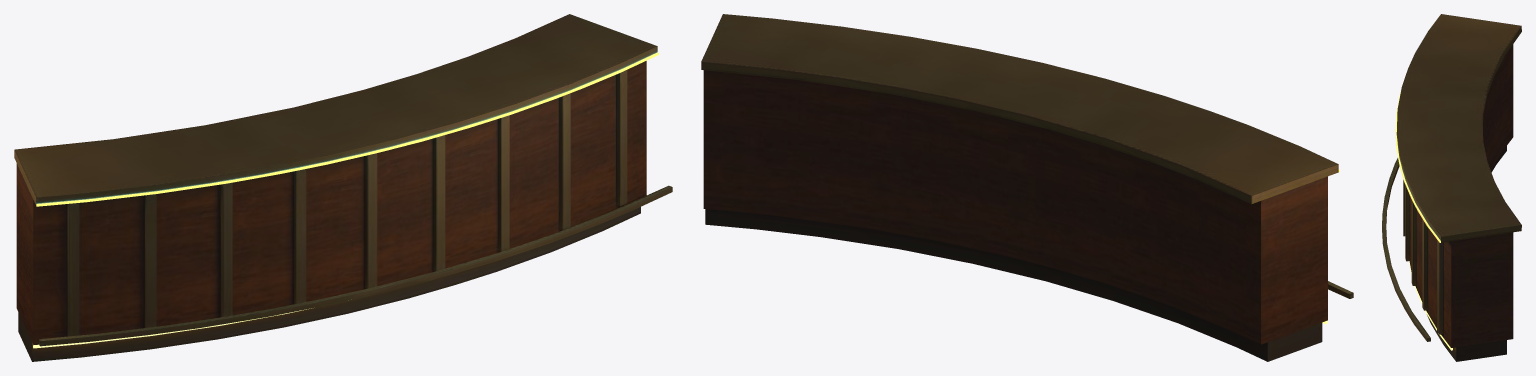
The model's file is cantina_bar_lod1.glb.
3 renders of one model, left to right at view 1: azimuth 30°, elevation 25°; view 2: azimuth 150°, elevation 25°; view 3: azimuth 270°, elevation 25°, orthographic. The views are drawn at different scales.
Parts seen in each view (by area): view 1: cantina_bar, cantina_bar_cantina_glow_teal; view 2: cantina_bar; view 3: cantina_bar, cantina_bar_cantina_glow_teal, cantina_bar_cantina_glow_amber.
Part boxes in pixels (bbox=[...]): cantina_bar: bbox=[14, 14, 672, 361]; cantina_bar_cantina_glow_teal: bbox=[36, 52, 658, 206]; cantina_bar: bbox=[701, 14, 1353, 361]; cantina_bar: bbox=[1382, 14, 1521, 361]; cantina_bar_cantina_glow_teal: bbox=[1395, 91, 1440, 242]; cantina_bar_cantina_glow_amber: bbox=[1409, 261, 1452, 350].
Size of the model in its own units: 4.01 by 1.05 by 1.04.
Materials: 3 (1 with a texture image).
